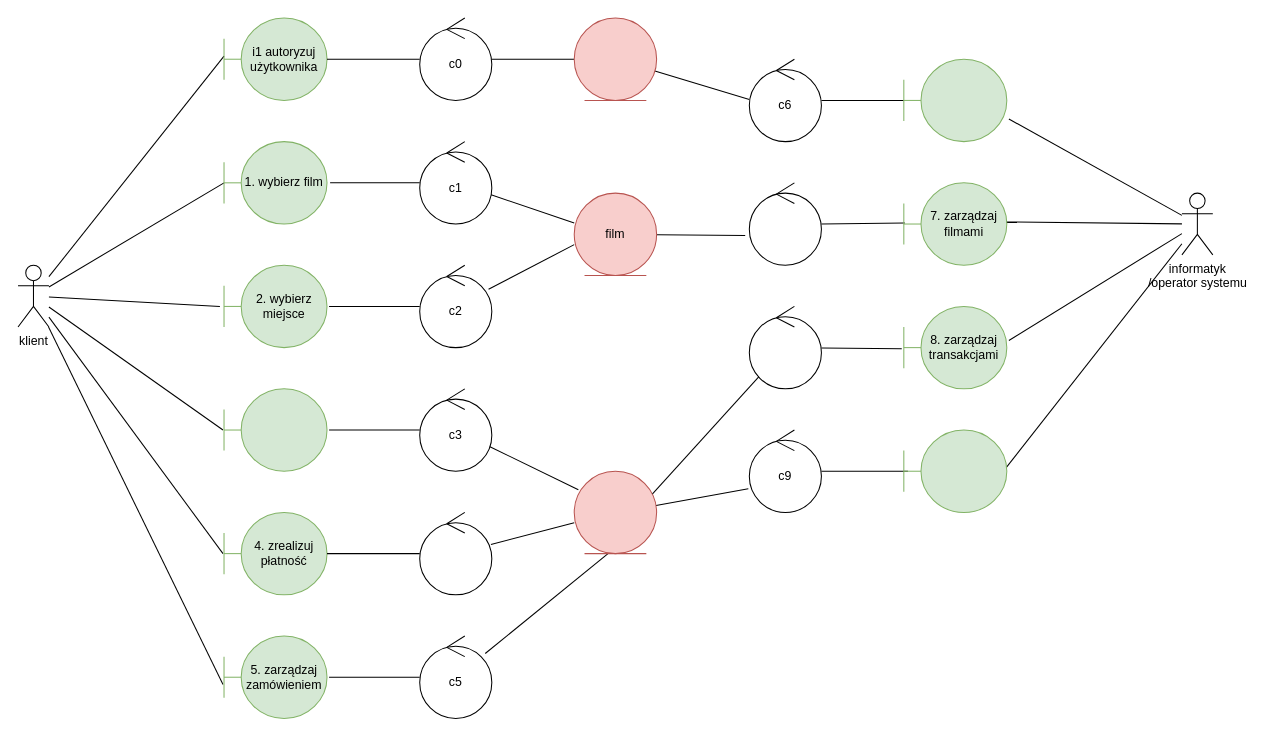
This 1265x736 diagram has some shape labels left out. Here are the shapes that lost their labels. From the top down, the centre of each, then its label:
the point at 615,58: użytkownik
the point at 955,100: 6. zarządzaj użytkownikami
the point at 784,223: c7
the point at 784,347: c8
the point at 275,429: 3. złóż zamówienie
the point at 955,470: 9. zaksięguj płatność
the point at 615,512: zamówienie
the point at 455,553: c4
